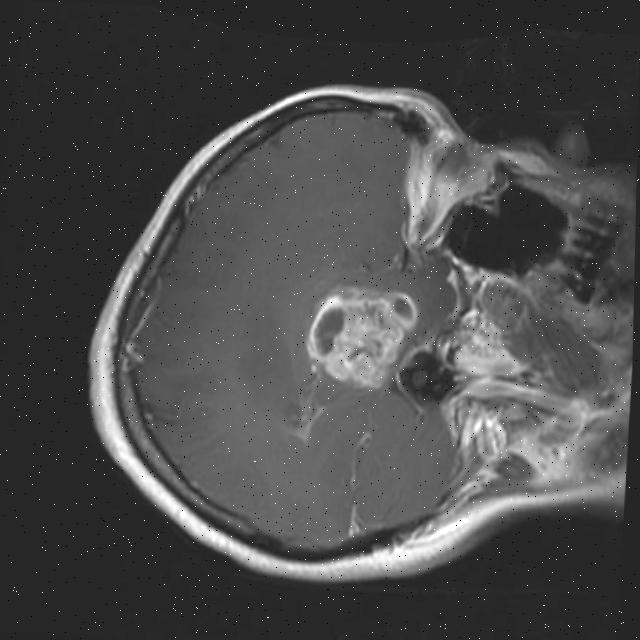Glioma: (301, 281, 421, 392)
